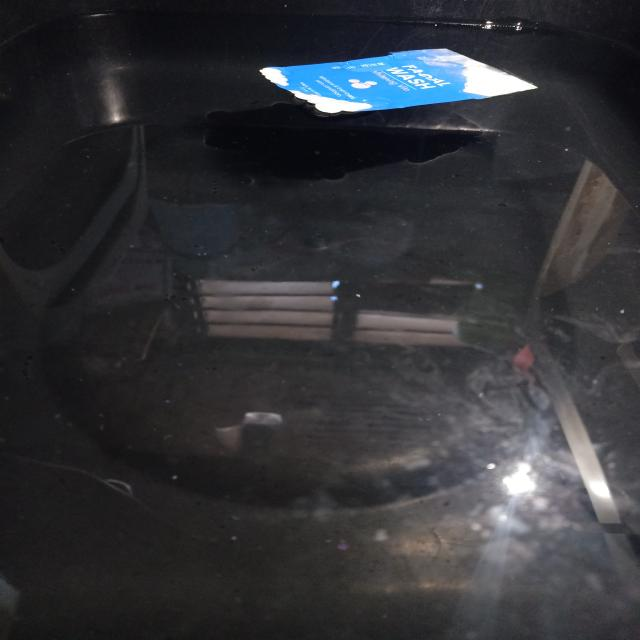Plastic Wrapper: (239, 49, 536, 134)
